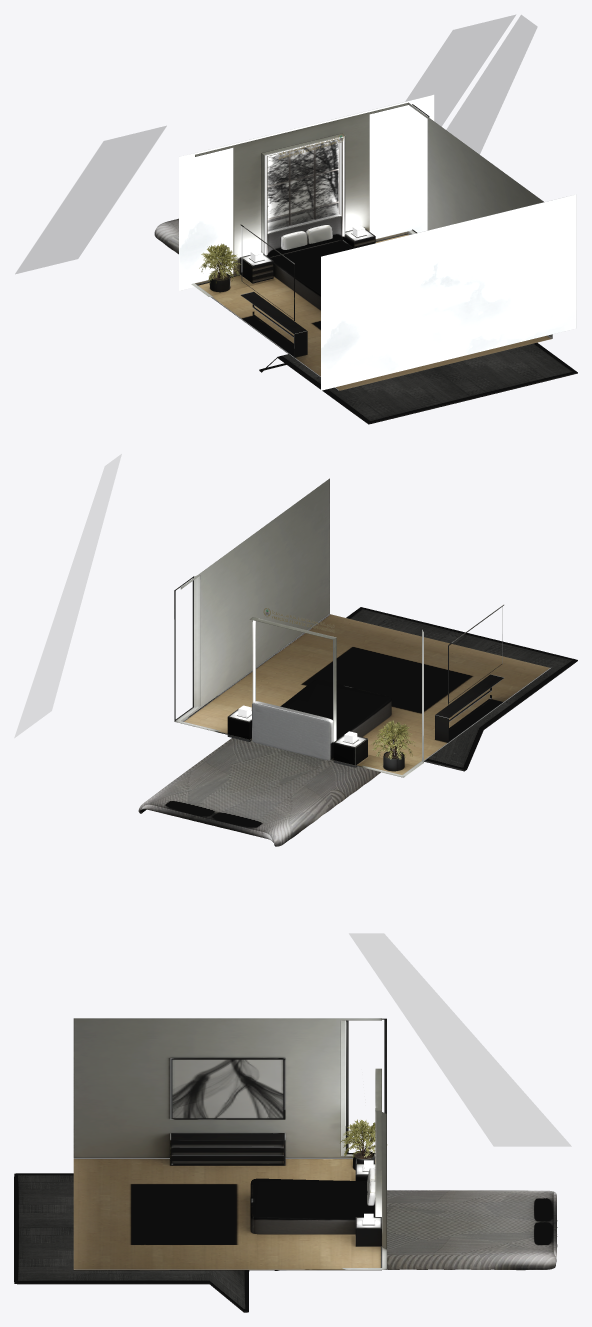
Rendered from room6.glb.
3 renders of one model, top to bottom at view 1: azimuth 30°, elevation 25°; view 2: azimuth 150°, elevation 25°; view 3: azimuth 270°, elevation 25°, orthographic. The views are drawn at different scales.
Visible parts, largest first — view 1: Bedroom_Bedroom_0, Bedroom_Windows_0, Bedroom_Carpet_0, Bedroom_Duvet_0; view 2: Bedroom_Bedroom_0, Bedroom_Duvet_0, Bedroom_Windows_0, Bedroom_Carpet_0; view 3: Bedroom_Bedroom_0, Bedroom_Duvet_0, Bedroom_Windows_0, Bedroom_Carpet_0.
Part boxes in pixels (bbox=[...]): Bedroom_Bedroom_0: bbox=[179, 94, 576, 390]; Bedroom_Windows_0: bbox=[15, 15, 537, 273]; Bedroom_Carpet_0: bbox=[259, 342, 577, 424]; Bedroom_Duvet_0: bbox=[154, 218, 178, 254]; Bedroom_Bedroom_0: bbox=[174, 478, 551, 777]; Bedroom_Duvet_0: bbox=[138, 738, 380, 846]; Bedroom_Windows_0: bbox=[14, 454, 121, 737]; Bedroom_Carpet_0: bbox=[346, 607, 577, 771]; Bedroom_Bedroom_0: bbox=[73, 1018, 387, 1270]; Bedroom_Duvet_0: bbox=[274, 1190, 557, 1270]; Bedroom_Windows_0: bbox=[349, 933, 571, 1146]; Bedroom_Carpet_0: bbox=[14, 1173, 249, 1312].
Bounding box in the file's own units: 28 × 16.85 × 31.97.
5 materials, 4 textured.
